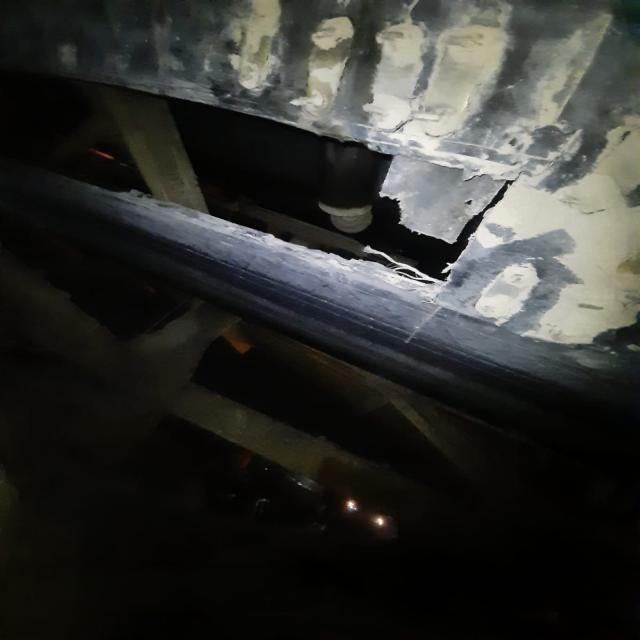Hole: (0, 68, 526, 294)
